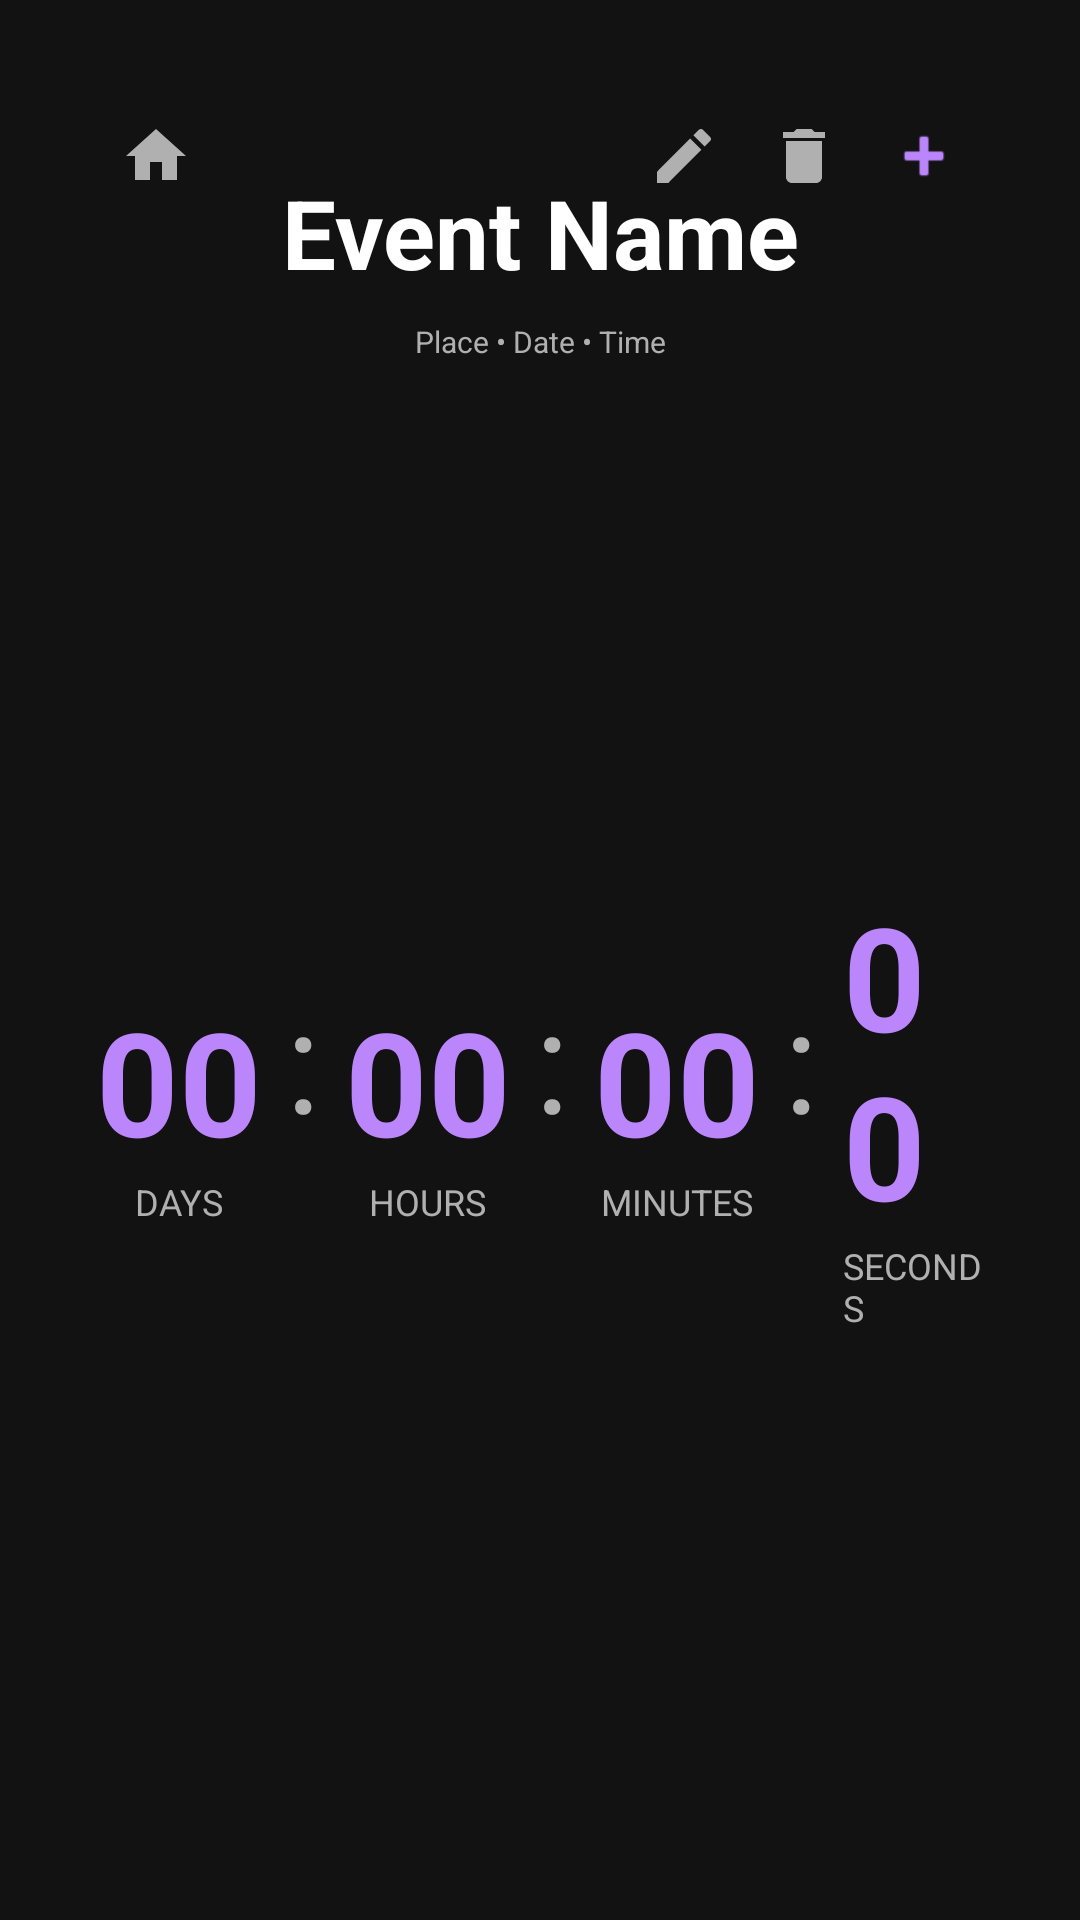

Screen size 1080 x 1920. Icon name, then its box in pixels as (x1, y1, x2, y2):
Delete: (783, 129, 825, 183)
Edit: (657, 129, 711, 183)
Home: (126, 129, 186, 180)
